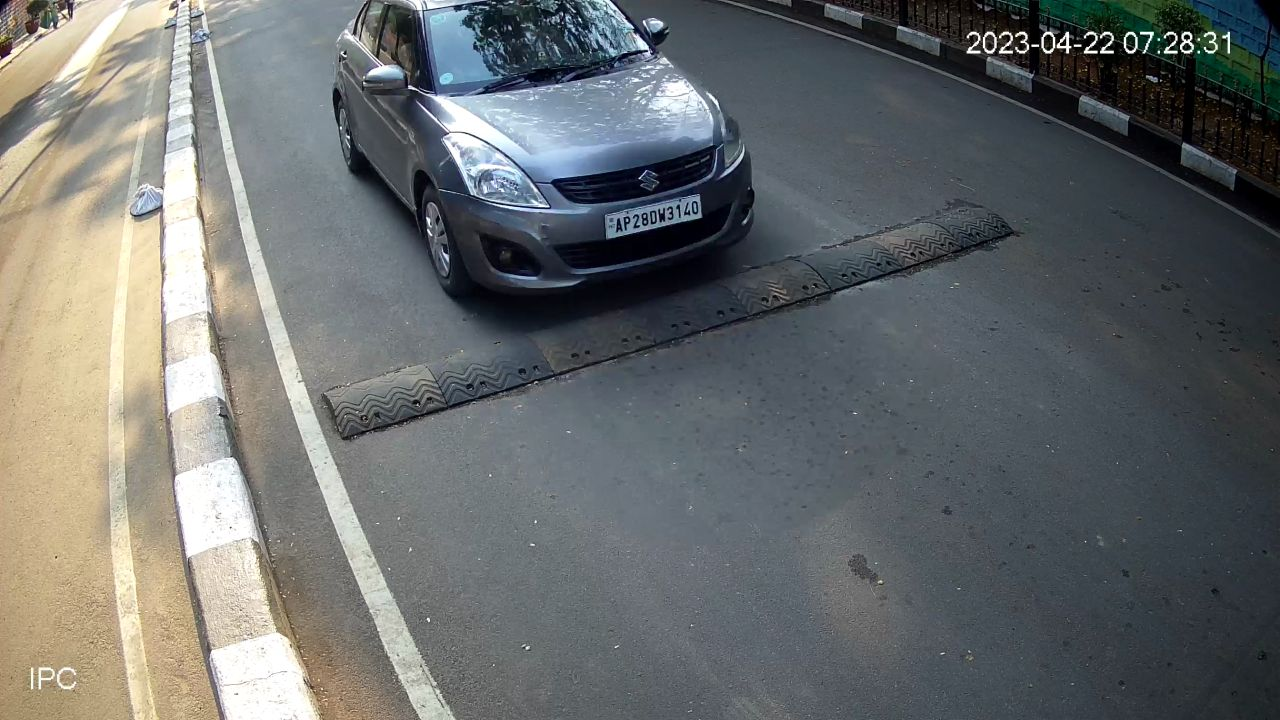license_plate: (600, 189, 710, 246)
